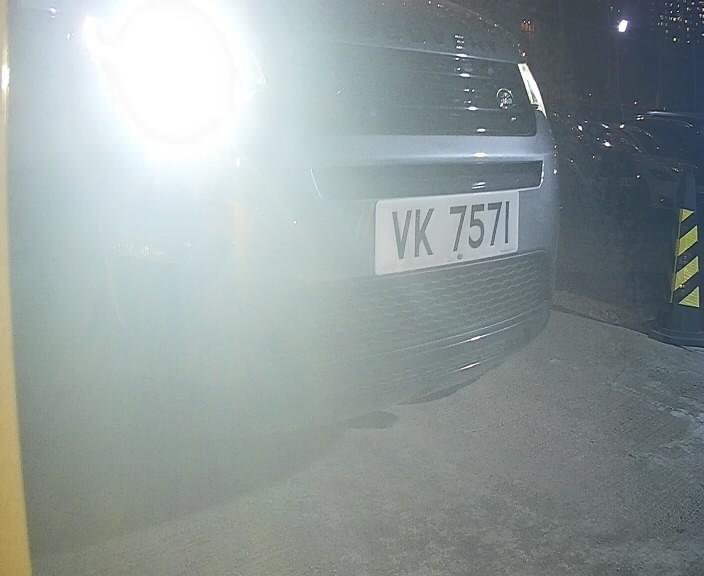Car: (19, 13, 651, 443)
License Plate: (375, 173, 519, 281)
